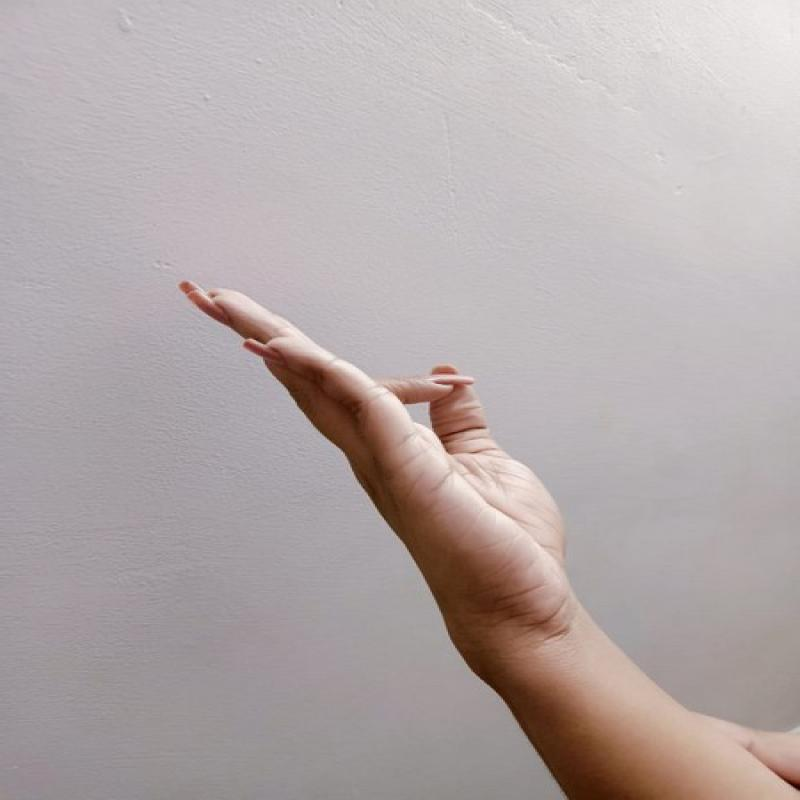Mudraakhyam: (152, 253, 595, 652)
